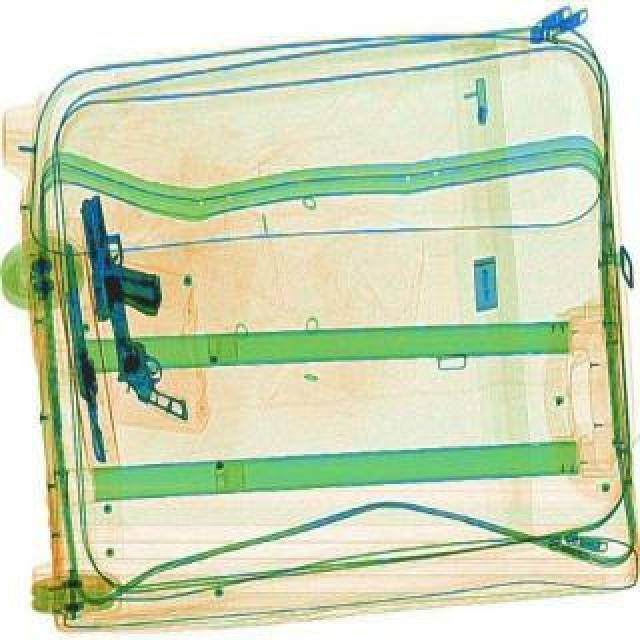gun: (90, 226, 190, 426), (72, 188, 164, 320), (58, 240, 110, 464)
